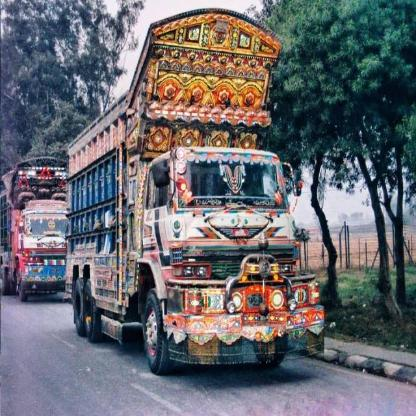truck: (61, 110, 318, 369), (2, 160, 70, 296)
